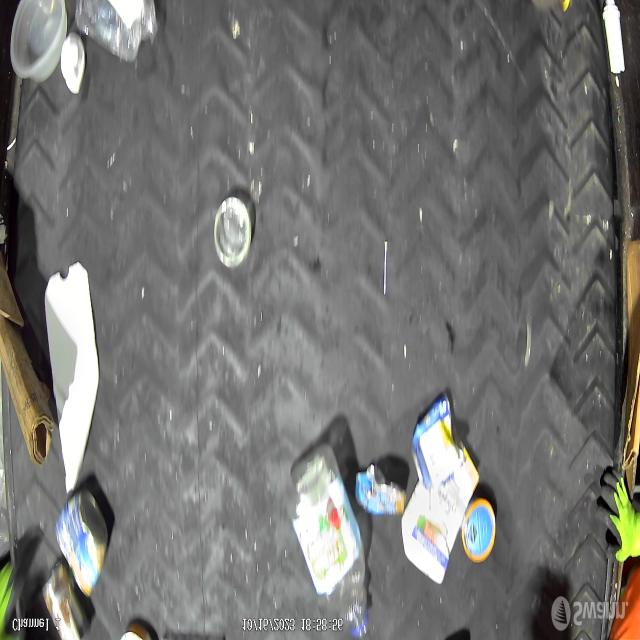can: (54, 492, 110, 598), (412, 394, 466, 490), (41, 560, 92, 640), (354, 463, 406, 518), (213, 198, 252, 270), (119, 621, 153, 640)
non_white_jug: (402, 438, 479, 584)
plastic_bottle: (286, 442, 370, 640)
